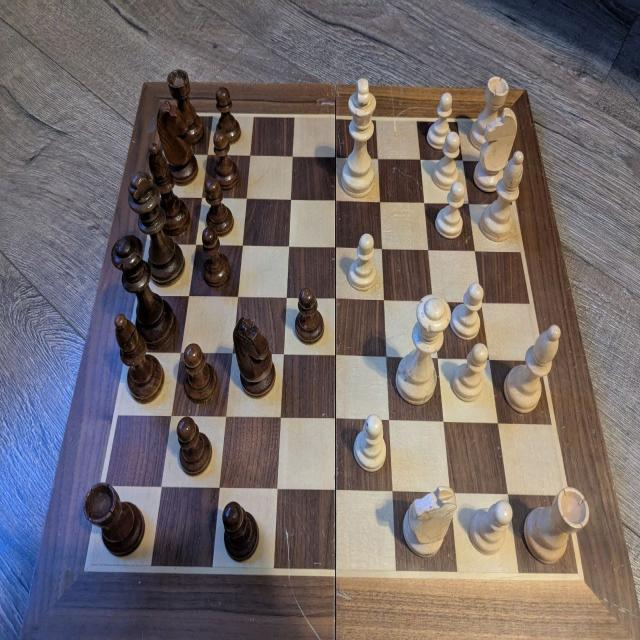black_bishop: (114, 310, 164, 403), (147, 141, 192, 237)
black_king: (128, 170, 185, 288)
black_knight: (233, 314, 277, 398), (156, 101, 199, 183)
black_pawn: (222, 499, 260, 563), (182, 342, 219, 404), (176, 414, 214, 474), (200, 225, 231, 288), (293, 287, 326, 345), (204, 176, 233, 237), (212, 127, 240, 190), (213, 85, 240, 145)
black_queen: (110, 231, 177, 347)
black_rook: (83, 480, 147, 560), (166, 68, 206, 143)
white_bishop: (504, 324, 561, 414), (481, 148, 525, 240)
white_king: (342, 76, 376, 198)
white_knight: (402, 482, 458, 560), (472, 105, 519, 193)
white_pawn: (468, 498, 512, 556), (451, 342, 489, 401), (353, 413, 387, 474), (450, 282, 484, 340), (347, 234, 378, 292), (434, 180, 465, 238), (432, 128, 460, 190), (426, 90, 454, 150)
white_queen: (396, 292, 452, 406)
white_rook: (524, 484, 590, 566), (468, 76, 508, 152)
